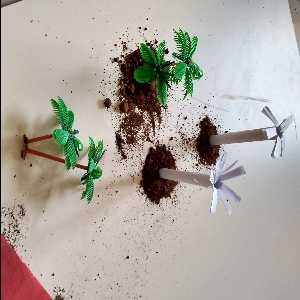plant: (20, 92, 107, 205), (131, 34, 207, 101)
weed: (153, 155, 250, 225), (204, 104, 289, 161)
